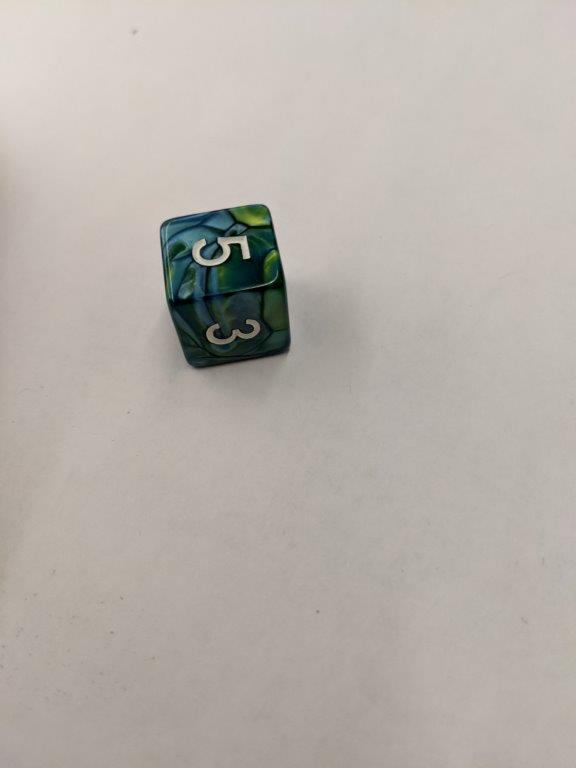d6-5: (159, 203, 292, 369)
